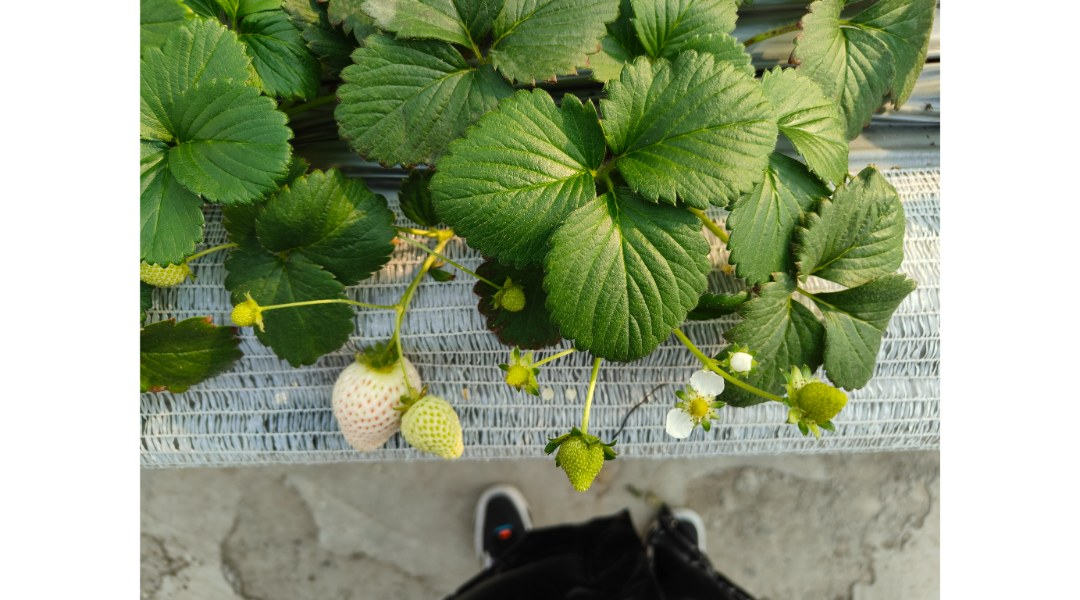berry: (330, 331, 428, 454), (391, 393, 474, 468), (778, 370, 856, 442), (663, 368, 726, 457), (543, 423, 617, 489), (497, 345, 538, 407), (215, 285, 268, 332), (492, 274, 535, 325), (721, 345, 759, 386)
strain: (673, 328, 790, 406), (278, 293, 395, 317), (582, 353, 599, 444), (540, 344, 568, 383)
